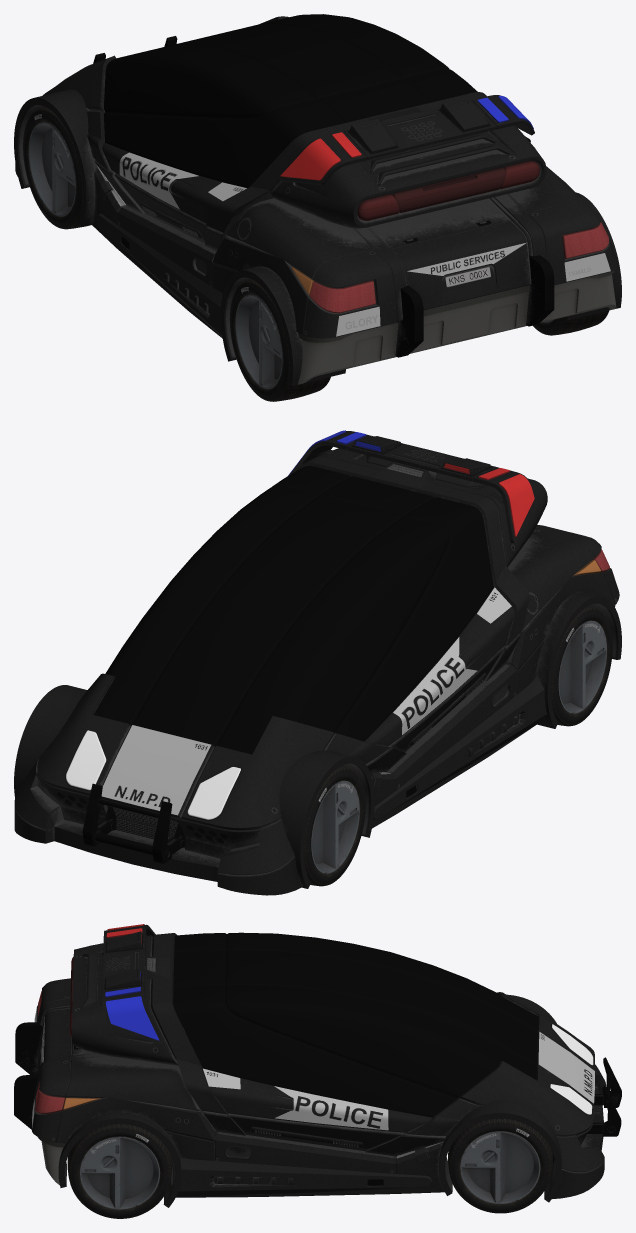
The model's file is HuCiv Genet Police Car.fbx.
3 renders of one model, top to bottom at view 1: azimuth 30°, elevation 25°; view 2: azimuth 150°, elevation 25°; view 3: azimuth 270°, elevation 25°, orthographic. The views are drawn at different scales.
Parts seen in each view (by area): view 1: desirefx.me_007, desirefx.me_002, desirefx.me_008, desirefx.me_010, desirefx.me_011, desirefx.me_004, desirefx.me_006; view 2: desirefx.me_002, desirefx.me_007, desirefx.me_008, desirefx.me_010, desirefx.me_011, desirefx.me_003; view 3: desirefx.me_007, desirefx.me_002, desirefx.me_008, desirefx.me_010, desirefx.me_011, desirefx.me_003, desirefx.me_006.
Boxes of the visible parts, bbox=[...] form: desirefx.me_007: bbox=[14, 16, 621, 385]; desirefx.me_002: bbox=[104, 14, 477, 187]; desirefx.me_008: bbox=[93, 36, 616, 384]; desirefx.me_010: bbox=[23, 107, 608, 401]; desirefx.me_011: bbox=[119, 152, 610, 336]; desirefx.me_004: bbox=[357, 161, 539, 220]; desirefx.me_006: bbox=[309, 222, 608, 313]; desirefx.me_002: bbox=[93, 466, 493, 754]; desirefx.me_007: bbox=[14, 448, 621, 895]; desirefx.me_008: bbox=[36, 430, 615, 863]; desirefx.me_010: bbox=[304, 605, 612, 886]; desirefx.me_011: bbox=[101, 587, 511, 815]; desirefx.me_003: bbox=[66, 730, 240, 819]; desirefx.me_007: bbox=[32, 933, 606, 1207]; desirefx.me_002: bbox=[173, 932, 538, 1117]; desirefx.me_008: bbox=[14, 924, 621, 1197]; desirefx.me_010: bbox=[67, 1118, 553, 1218]; desirefx.me_011: bbox=[31, 1007, 594, 1130]; desirefx.me_003: bbox=[550, 1024, 593, 1114]; desirefx.me_006: bbox=[35, 991, 65, 1113].
Size of the model in its own units: 24.69 by 17.35 by 47.64.
